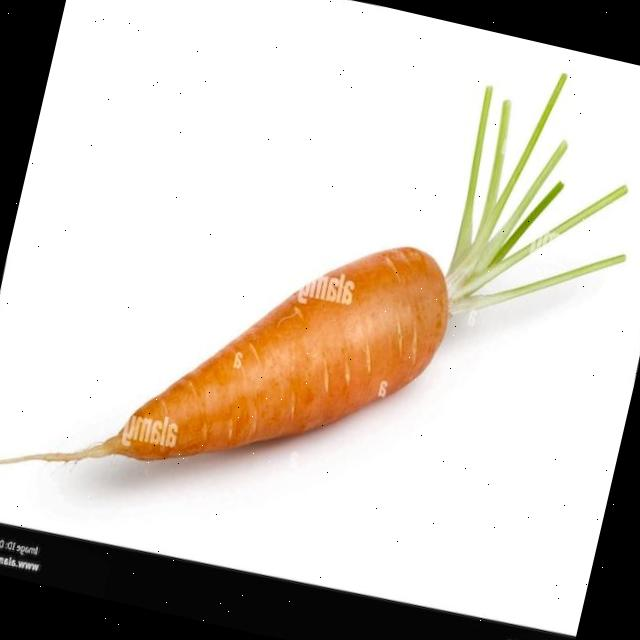carrot: (0, 74, 627, 463)
